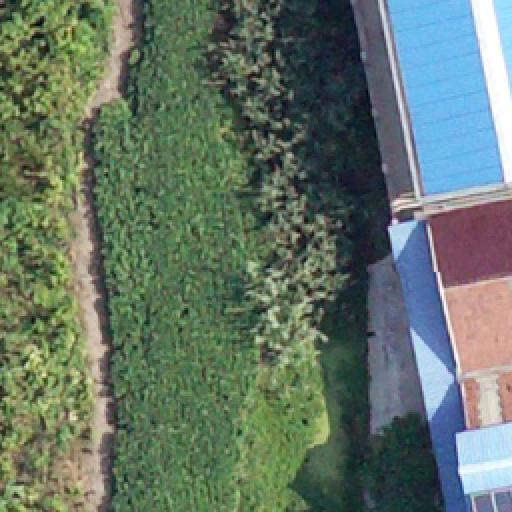solar-panel: (473, 488, 511, 512)
